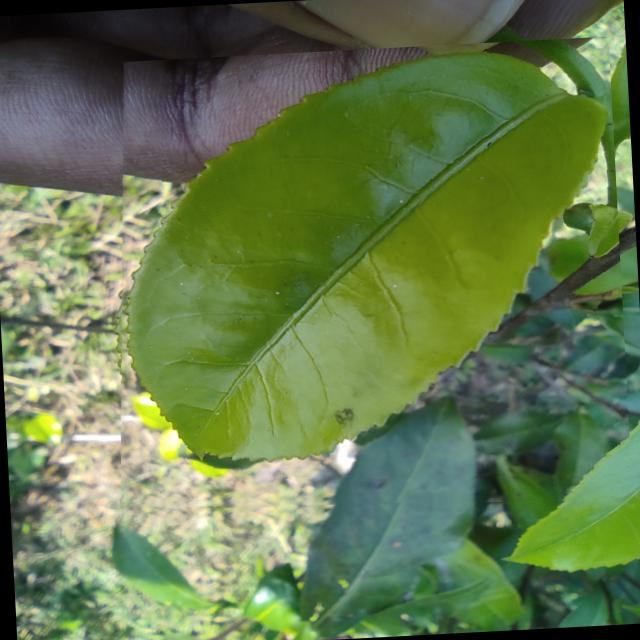Category C(4-7 days): (96, 36, 632, 526)
